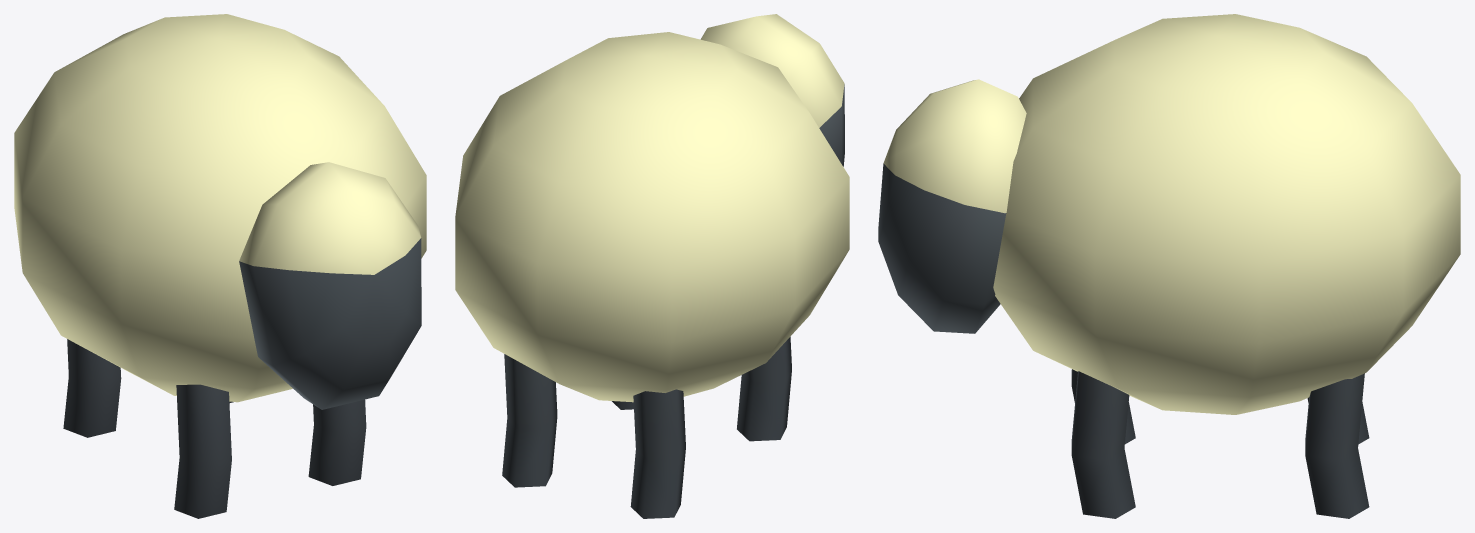
The model's file is T Sheep.fbx.
3 renders of one model, left to right at view 1: azimuth 30°, elevation 25°; view 2: azimuth 150°, elevation 25°; view 3: azimuth 270°, elevation 25°, orthographic. The views are drawn at different scales.
Visible parts, largest first — view 1: Sheep N Eyes.012; view 2: Sheep N Eyes.012; view 3: Sheep N Eyes.012.
Boxes of the visible parts, x1,y1,x2,y2 form: Sheep N Eyes.012: (14,14,426,518); Sheep N Eyes.012: (455,14,849,518); Sheep N Eyes.012: (878,14,1460,518).
Size of the model in its own units: 1.94 by 2.21 by 2.67.
